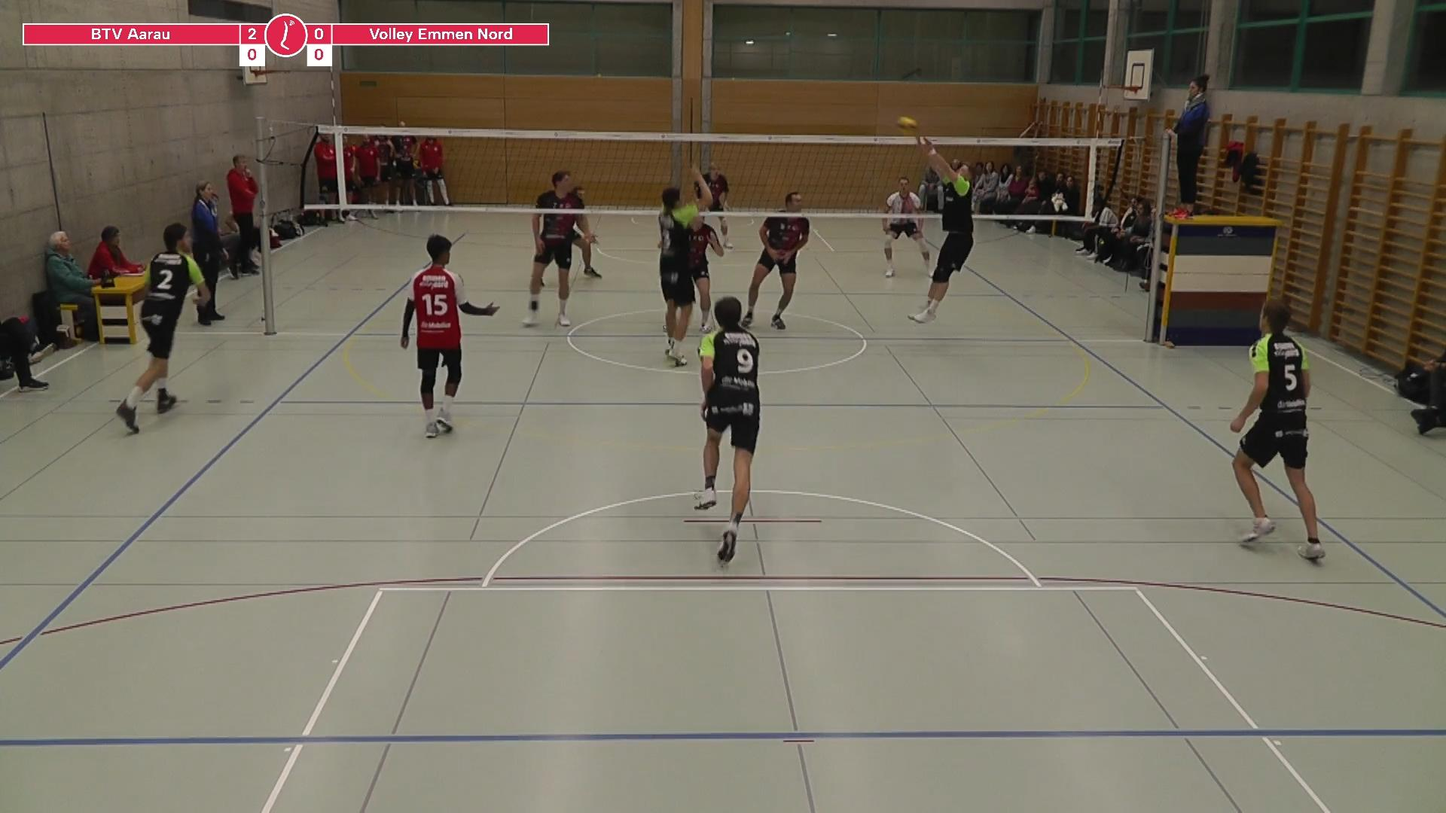alzata: (901, 130, 993, 333)
